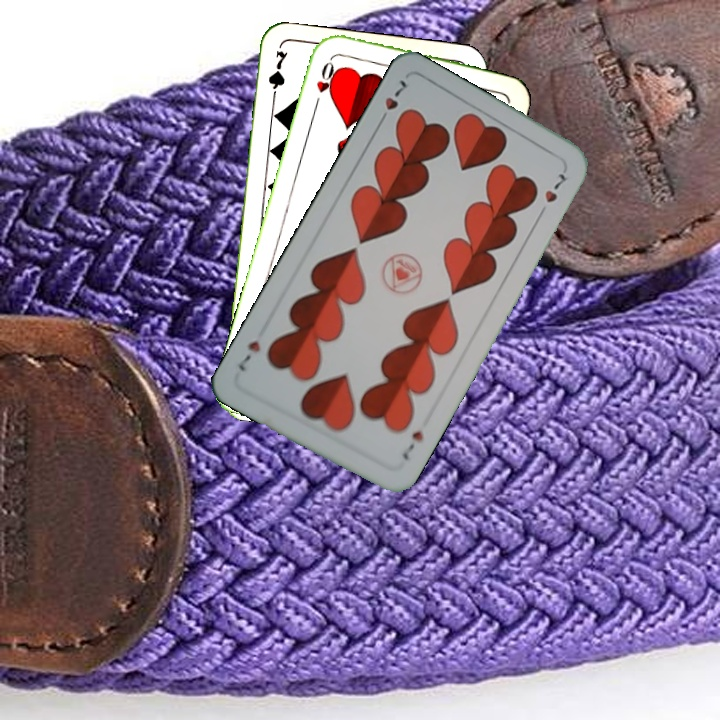G7: (264, 46, 291, 106)
H7: (373, 75, 410, 128), (397, 426, 426, 463)
HO: (311, 50, 342, 108)
